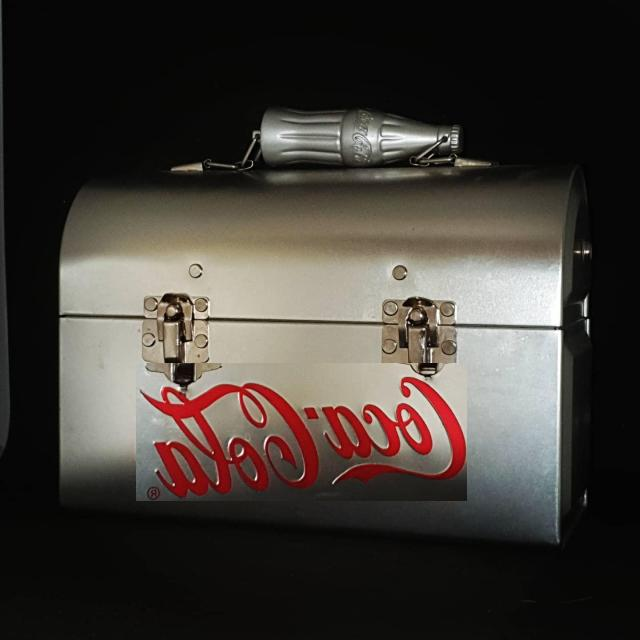coca-cola: (136, 363, 467, 501)
